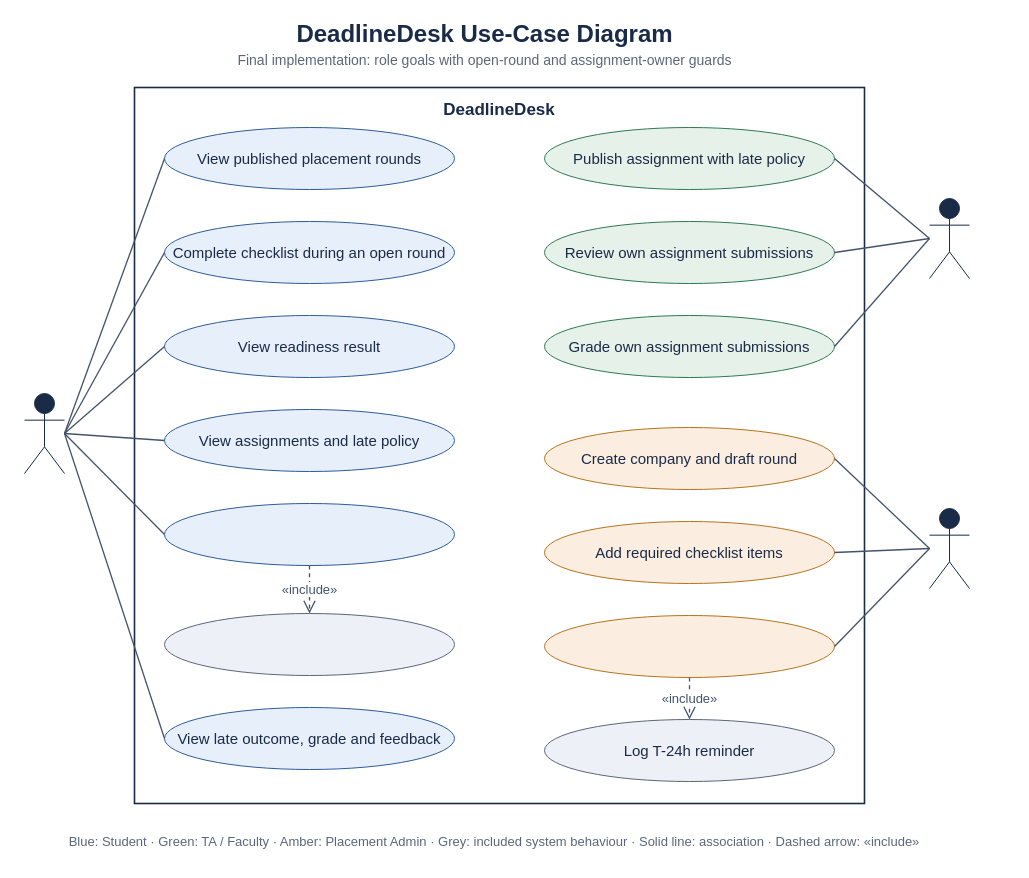
The diagram is 1029 pixels wide and 878 high, and some of its shapes have lost their labels. Each missing label, with the centre of its shape:
"Evaluate late policy" belongs at (309,644).
"Placement Admin" belongs at (949,548).
"Publish placement round" belongs at (689,646).
"Student" belongs at (44,433).
"TA / Faculty" belongs at (949,238).
"Upload submission file" belongs at (309,534).
